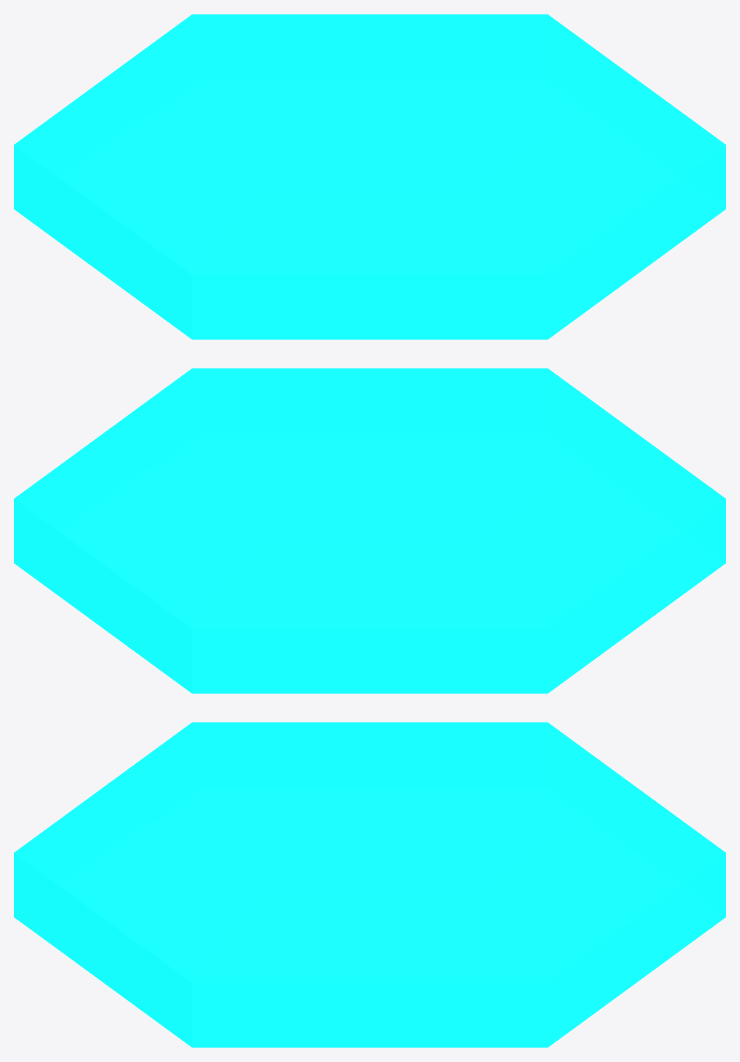
The model's file is menu_item.fbx.
3 renders of one model, top to bottom at view 1: azimuth 30°, elevation 25°; view 2: azimuth 150°, elevation 25°; view 3: azimuth 270°, elevation 25°, orthographic.
Visible parts, largest first — view 1: Cylinder_001, Cylinder; view 2: Cylinder_001, Cylinder; view 3: Cylinder_001, Cylinder.
Boxes of the visible parts, <box> form: Cylinder_001: <box>14,14,725,339</box>; Cylinder: <box>14,14,725,339</box>; Cylinder_001: <box>14,368,725,693</box>; Cylinder: <box>14,368,725,693</box>; Cylinder_001: <box>14,722,725,1047</box>; Cylinder: <box>14,722,725,1047</box>.
Size of the model in its own units: 1.73 by 0.3 by 2.
